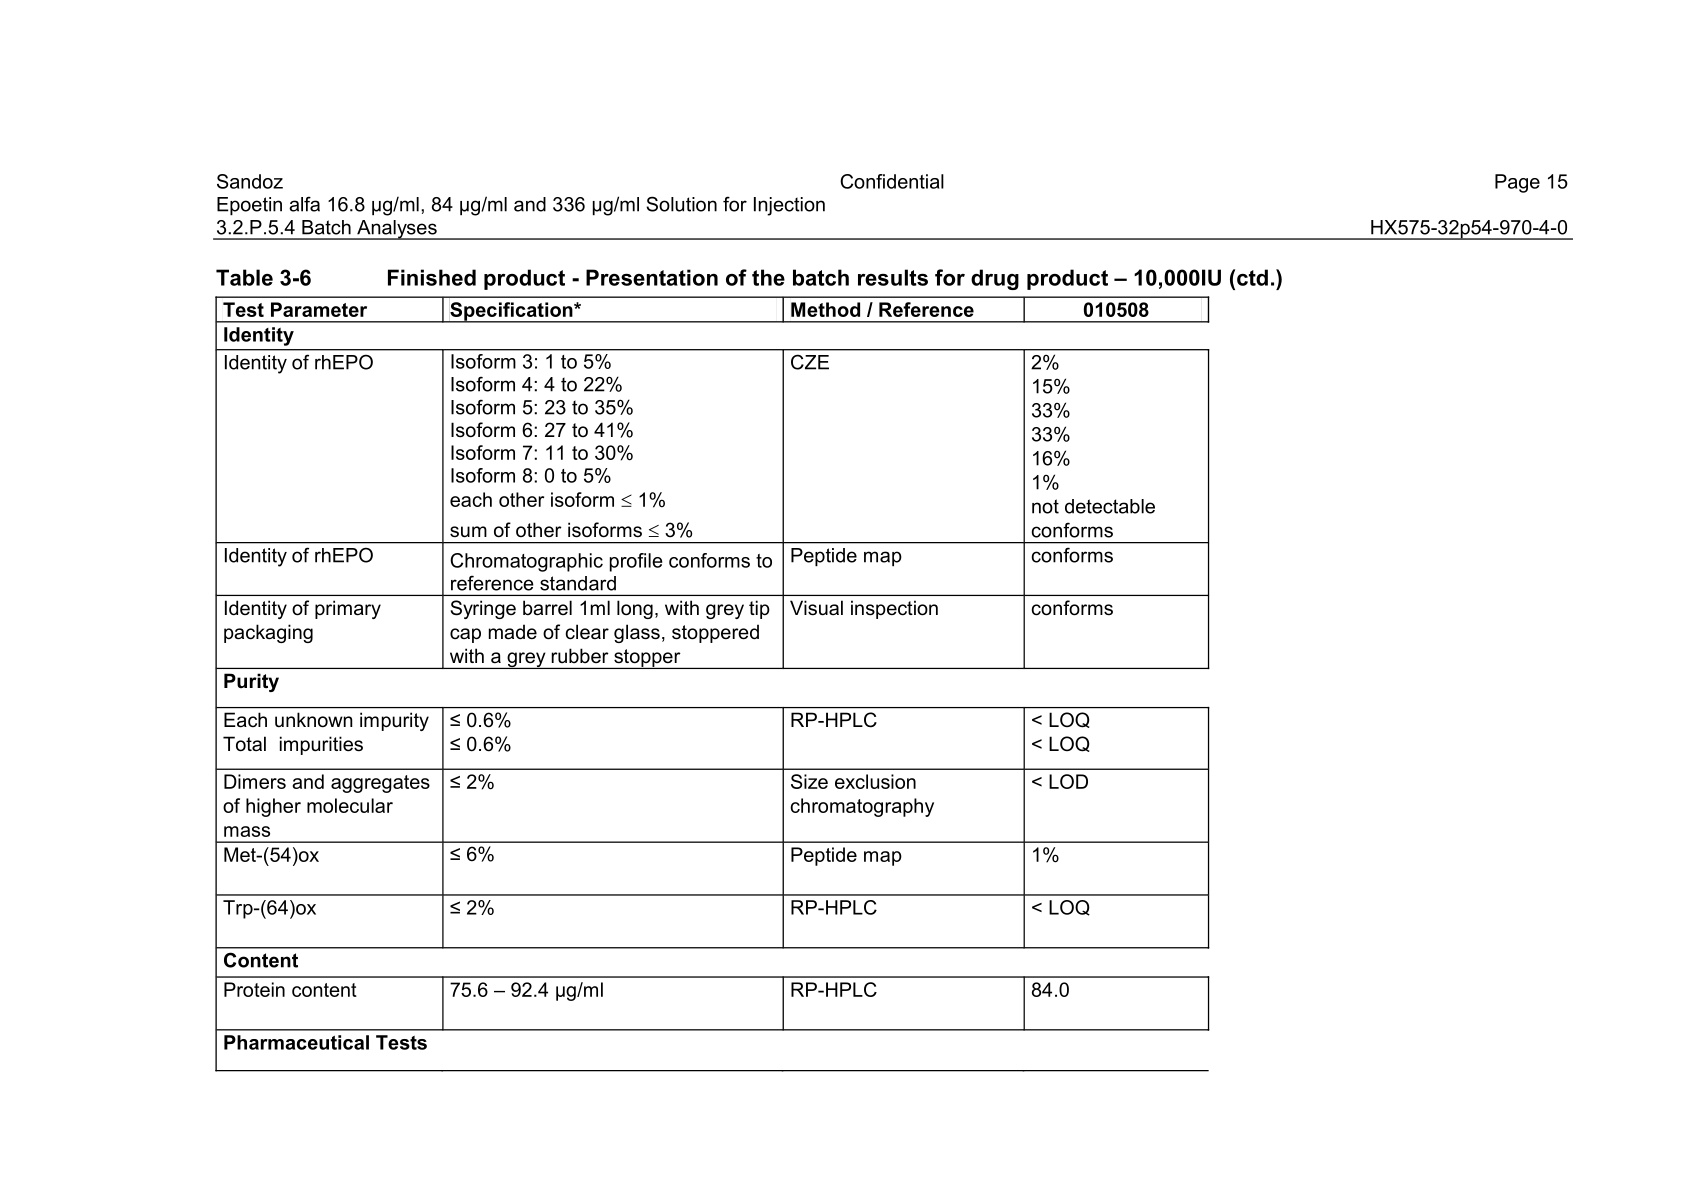partial_lined_merged_cells: (213, 295, 1210, 1072)
